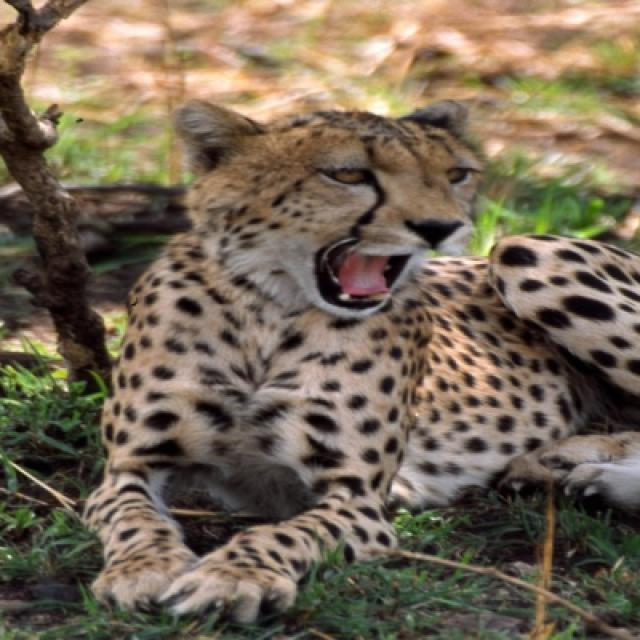Cheetah: (82, 99, 638, 630)
